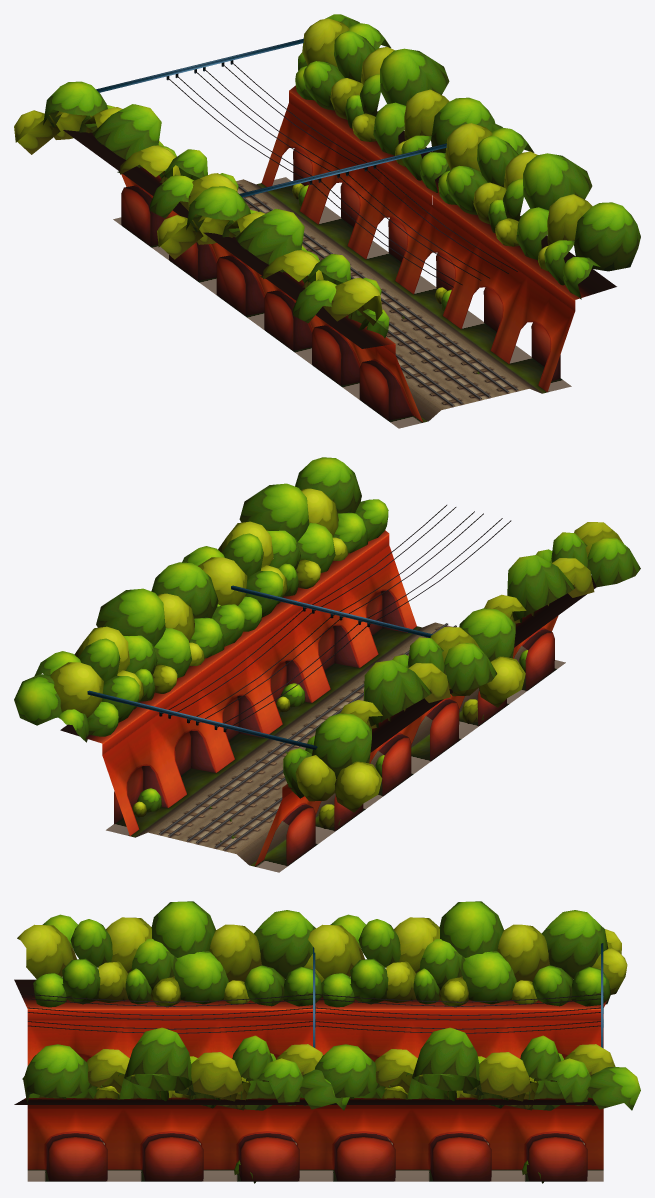
File: Road.fbx
3 renders of one model, top to bottom at view 1: azimuth 30°, elevation 25°; view 2: azimuth 150°, elevation 25°; view 3: azimuth 270°, elevation 25°, orthographic.
Visible parts, largest first — view 1: Object_2; view 2: Object_2; view 3: Object_2.
Part boxes in pixels (x1=…): Object_2: x1=14, y1=14, x2=640, y2=428; Object_2: x1=14, y1=457, x2=640, y2=872; Object_2: x1=14, y1=901, x2=640, y2=1183.
Size of the model in its own units: 26039 by 12377 by 39190.
Materials: 1 (1 with a texture image).
